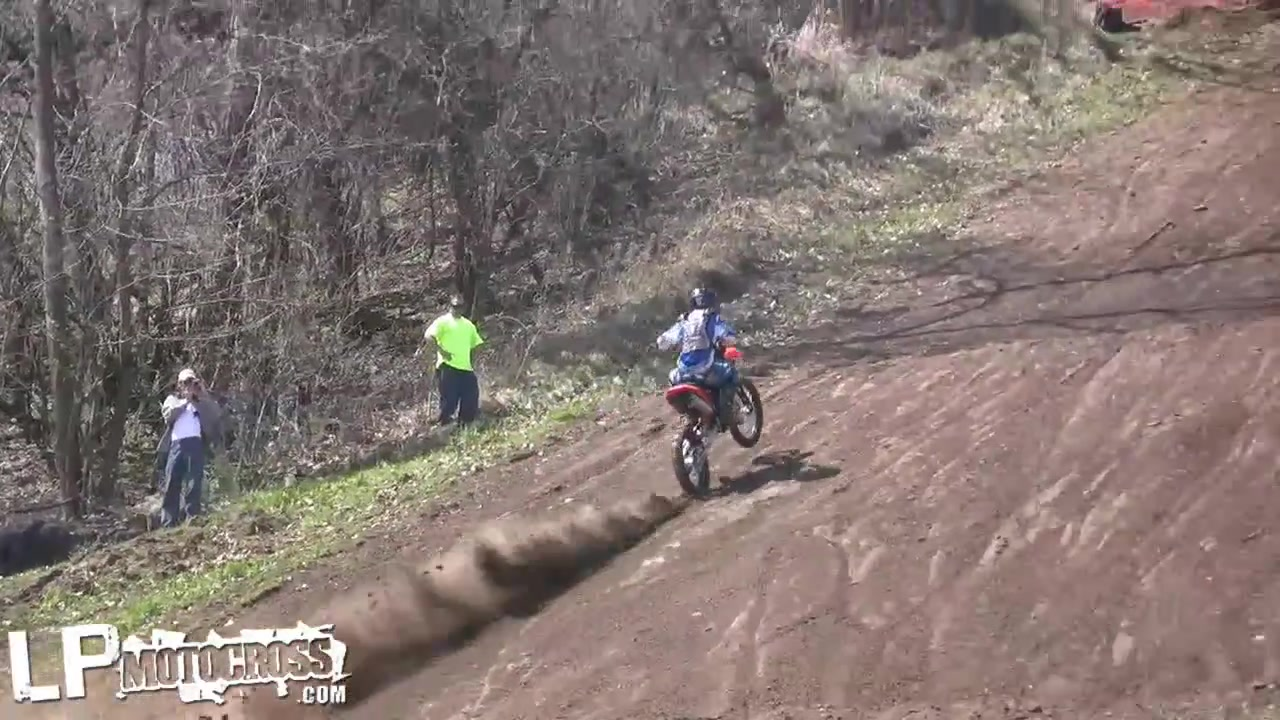motorbike: (665, 340, 769, 496)
